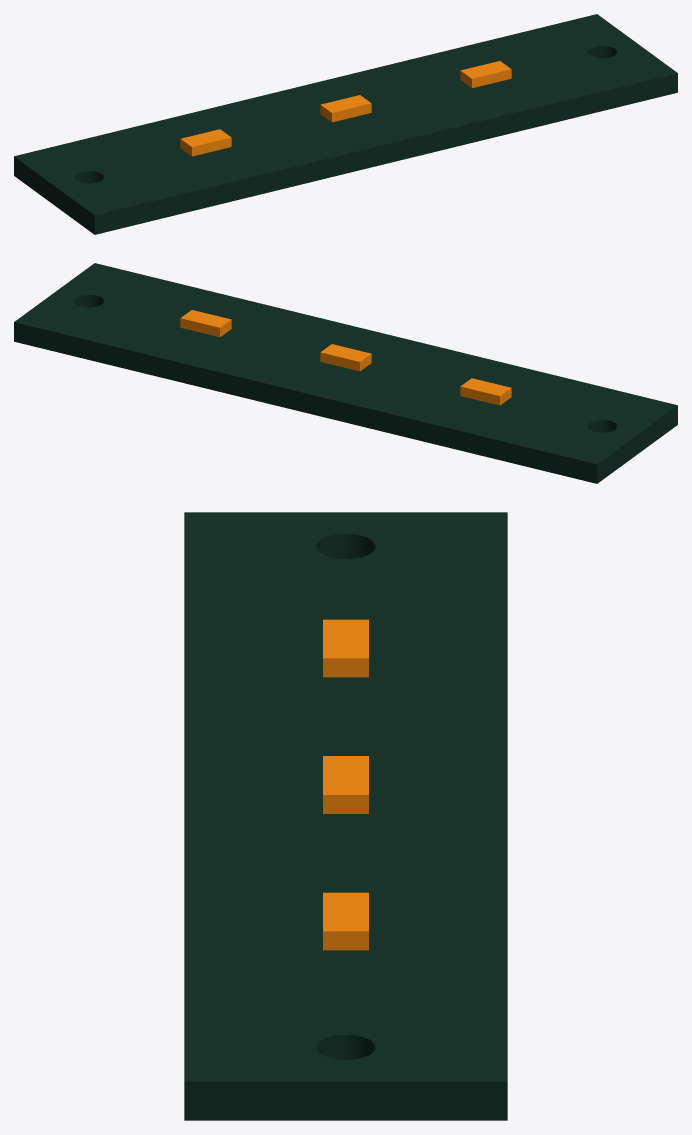
File: base-light-b04-local.glb
3 views of the same model, one above another, from view 1: azimuth 30°, elevation 25°; view 2: azimuth 150°, elevation 25°; view 3: azimuth 270°, elevation 25° (orthographic). The views are drawn at different scales.
Parts seen in each view (by area): view 1: PCB, D1_POWER, D2_RUN, D3_FAULT; view 2: PCB, D1_POWER, D2_RUN, D3_FAULT; view 3: PCB, D1_POWER, D3_FAULT, D2_RUN.
Part boxes in pixels (x1,y1,x2,y2): PCB: (14, 14, 677, 234); D1_POWER: (180, 129, 231, 156); D2_RUN: (320, 95, 371, 122); D3_FAULT: (460, 61, 511, 88); PCB: (14, 263, 677, 483); D1_POWER: (460, 378, 511, 405); D2_RUN: (320, 344, 371, 371); D3_FAULT: (180, 310, 231, 337); PCB: (184, 512, 507, 1120); D1_POWER: (323, 619, 368, 677); D3_FAULT: (323, 892, 368, 950); D2_RUN: (323, 756, 368, 813).
Size of the model in its own units: 50 by 2.52 by 12.
